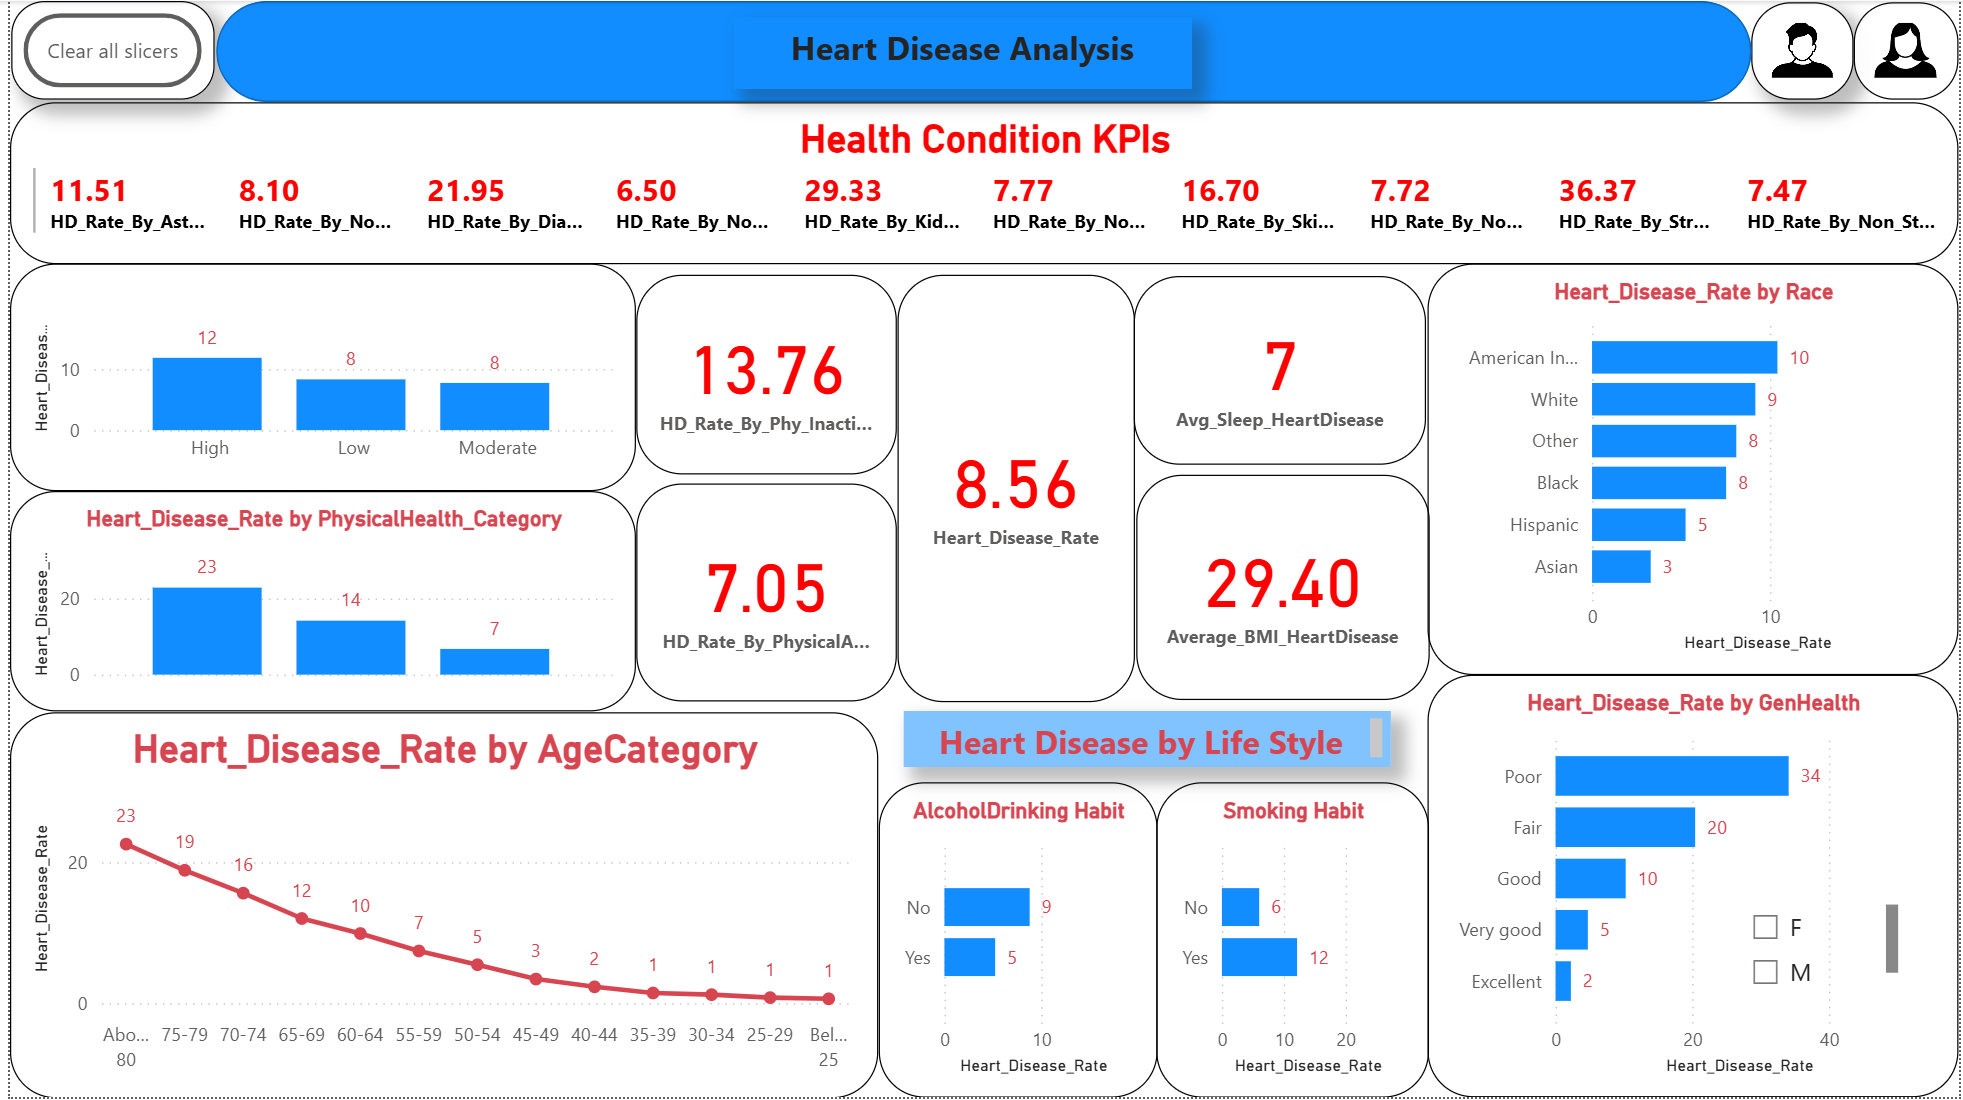

The dashboard page shown, as its layout file describes it:
{"tool":"powerbi","page":{"name":"DASHBOARD","canvas":[1280,720],"ordinal":0},"visuals":[{"type":"lineChart","fields":{"Category":["Heart_disease.AgeCategory"],"Y":["Heart_disease.Heart_Disease_Rate"]},"box":[0,466.9,570.6,253.4],"z":0},{"type":"barChart","fields":{"Category":["Heart_disease.Race"],"Y":["Heart_disease.Heart_Disease_Rate"]},"box":[931.4,172.5,348.7,270.2],"z":1000},{"type":"card","fields":{"Values":["Heart_disease.HD_Rate_By_PhysicalActivity"]},"box":[411.4,317.3,171.3,143.6],"z":2000},{"type":"card","fields":{"Values":["Heart_disease.HD_Rate_By_PhysicalInActiv"]},"box":[411.4,179.8,171.3,131.5],"z":3000},{"type":"card","fields":{"Values":["Heart_disease.Heart_Disease_Rate"]},"box":[582.7,179.8,155.6,281.1],"z":4000},{"type":"card","fields":{"Values":["Heart_disease.Average_BMI_HeartDisease"]},"box":[739.5,311.3,193,148.4],"z":5000},{"type":"barChart","fields":{"Y":["Heart_disease.Heart_Disease_Rate"],"Category":["Heart_disease.GenHealth"]},"box":[931.4,442.8,348.7,277.5],"z":6000},{"type":"columnChart","fields":{"Category":["Heart_disease.MentalHealth_Category"],"Y":["Heart_disease.Heart_Disease_Rate"]},"box":[0,172.5,411.4,149.6],"z":7000},{"type":"columnChart","fields":{"Y":["Heart_disease.Heart_Disease_Rate"],"Category":["Heart_disease.PhysicalHealth_Category"]},"box":[0,322.1,411.4,144.8],"z":8000},{"type":"card","fields":{"Values":["Heart_disease.Low_Sleep_HeartDisease"]},"box":[738.3,181,191.8,124.3],"z":9000},{"type":"multiRowCard","title":"Health Condition KPIs","fields":{"Values":["Heart_disease.HD_Rate_By_Asthma","Heart_disease.HD_Rate_By_Non_Asthma","Heart_disease.HD_Rate_By_Diabet","Heart_disease.HD_Rate_By_Non_Diabet","Heart_disease.HD_Rate_By_KidneyDisease","Heart_disease.HD_Rate_By_Non_KidneyDisease","Heart_disease.HD_Rate_By_SkinCancer","Heart_disease.HD_Rate_By_Non_Skincare","Heart_disease.HD_Rate_By_Stroke","Heart_disease.HD_Rate_By_Non_Stroke"]},"box":[0,66.4,1280,106.2],"z":10000},{"type":"image","box":[1143.7,1.2,67.6,63.9],"z":11000},{"type":"image","box":[1211.3,1.2,68.8,63.9],"z":12000},{"type":"actionButton","box":[1.2,0,133.9,65.1],"z":13000},{"type":"slicer","fields":{"Values":["Heart_disease.Sex"]},"box":[1132.4,588.8,112.9,66.3],"z":14000},{"type":"barChart","title":"Smoking Habit","fields":{"Y":["Heart_disease.Heart_Disease_Rate"],"Category":["Heart_disease.Smoking"]},"box":[753.3,512.9,179.1,207.2],"z":15000},{"type":"barChart","title":"AlcoholDrinking Habit","fields":{"Y":["Heart_disease.Heart_Disease_Rate"],"Category":["Heart_disease.AlcoholDrinking"]},"box":[570.4,512.9,182.9,207.2],"z":16000},{"type":"shape","box":[135.1,0,1008.6,66.4],"z":17000},{"type":"textbox","box":[475.3,10.9,300.4,47.1],"z":18000},{"type":"textbox","box":[587.1,466.8,319.7,37.1],"z":19000}]}

Visuals, with their boxes in screenshot pixels (x1, y1, x2, y2), scaled from the page's 1280x720 canvas onto the 1963x1100 screenshot:
lineChart - Heart_disease.AgeCategory x Heart_disease.Heart_Disease_Rate: 0:713:875:1099
barChart - Heart_disease.Race x Heart_disease.Heart_Disease_Rate: 1428:264:1962:676
card - Heart_disease.HD_Rate_By_PhysicalActivity: 631:485:894:704
card - Heart_disease.HD_Rate_By_PhysicalInActiv: 631:275:894:476
card - Heart_disease.Heart_Disease_Rate: 894:275:1132:704
card - Heart_disease.Average_BMI_HeartDisease: 1134:476:1430:702
barChart - Heart_disease.Heart_Disease_Rate x Heart_disease.GenHealth: 1428:676:1962:1099
columnChart - Heart_disease.MentalHealth_Category x Heart_disease.Heart_Disease_Rate: 0:264:631:492
columnChart - Heart_disease.Heart_Disease_Rate x Heart_disease.PhysicalHealth_Category: 0:492:631:713
card - Heart_disease.Low_Sleep_HeartDisease: 1132:277:1426:466
"Health Condition KPIs" multiRowCard: 0:101:1962:264
image: 1754:2:1858:99
image: 1858:2:1962:99
actionButton: 2:0:207:99
slicer - Heart_disease.Sex: 1737:900:1910:1001
"Smoking Habit" barChart: 1155:784:1430:1099
"AlcoholDrinking Habit" barChart: 875:784:1155:1099
shape: 207:0:1754:101
textbox: 729:17:1190:89
textbox: 900:713:1391:770
